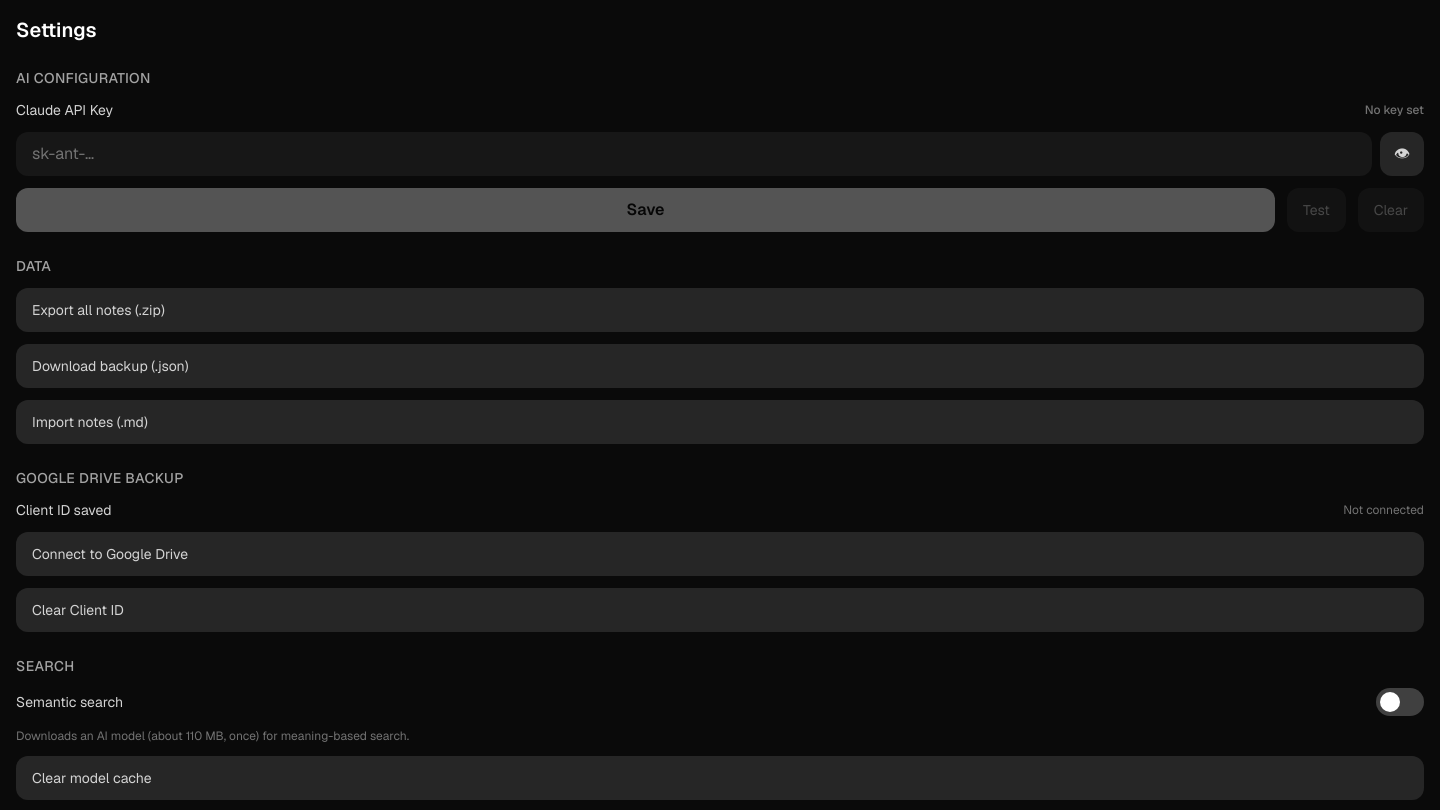
SettingsView › shows "Connected" status after successful test
Type "sk-ant-valid" into the password field labelled "Claude API Key" at (694, 154), box [16,132,1372,176]
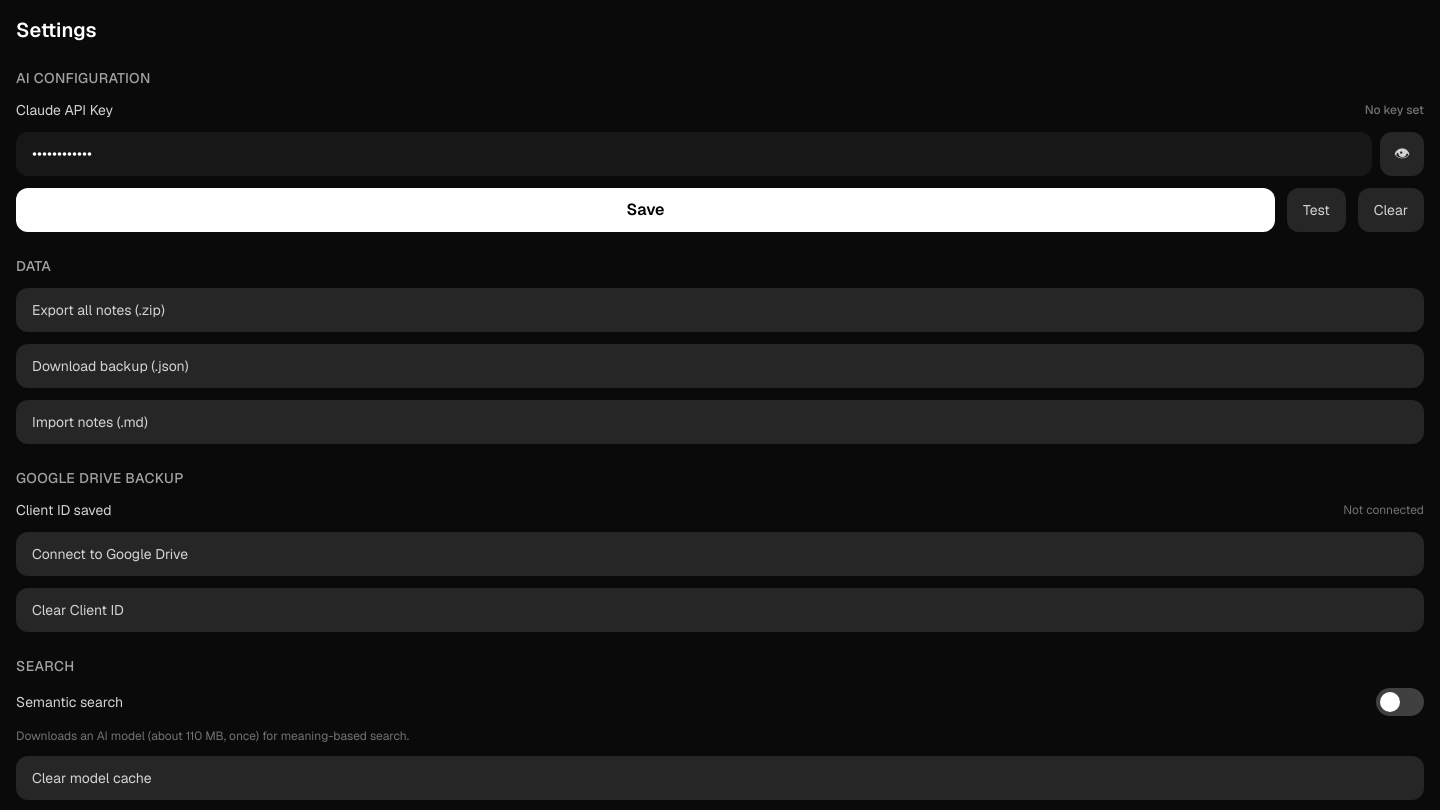
Click the button with aria-label "test api key" at (1316, 210), box [1287,188,1346,232]
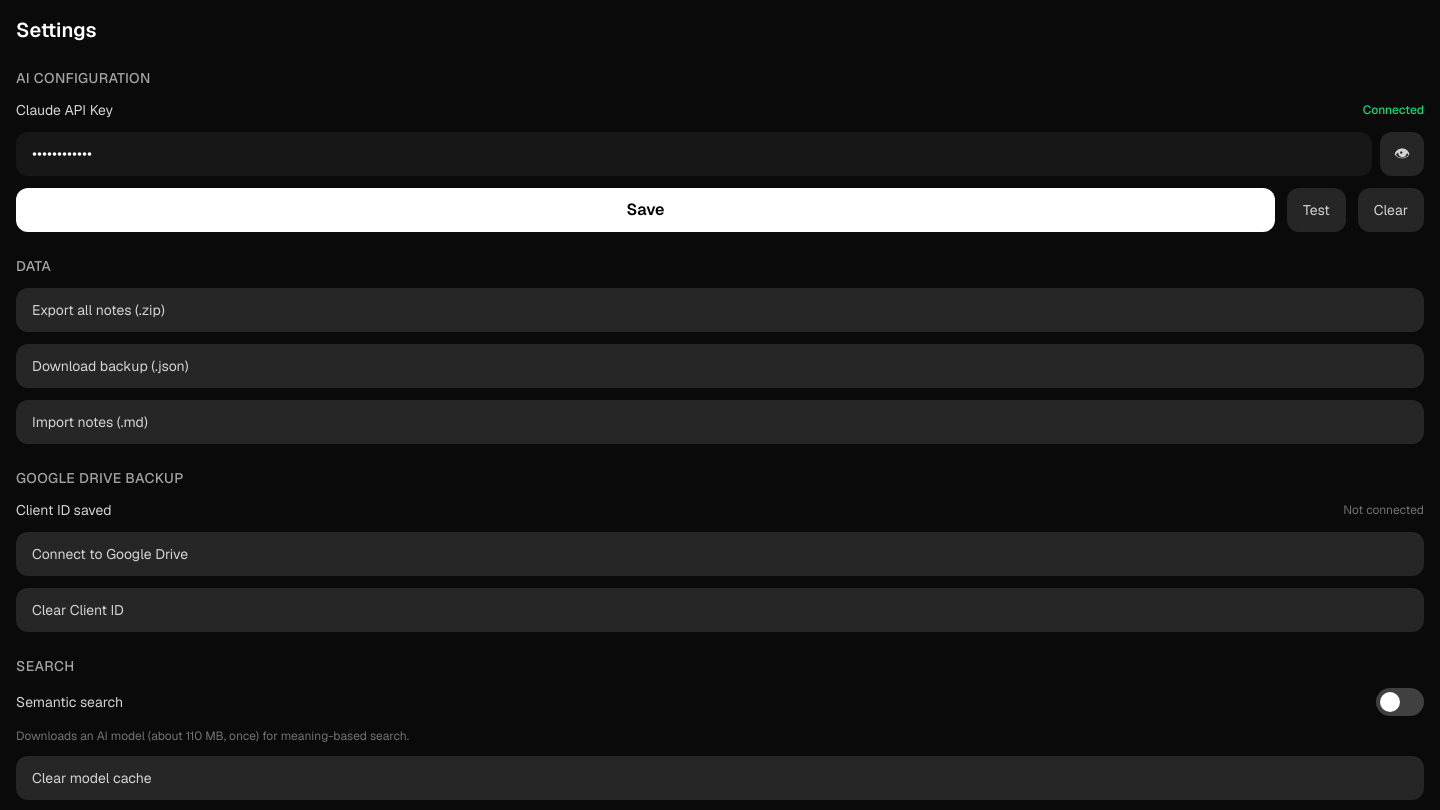
Expected: the message reads "Connected", [1363,102,1424,118]
